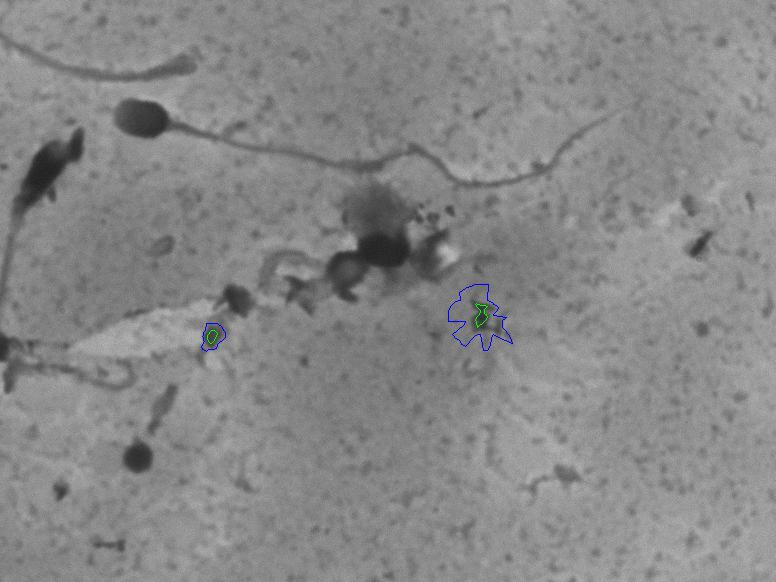Abnormal: (6, 115, 91, 280)
Normal: (102, 83, 631, 199)
